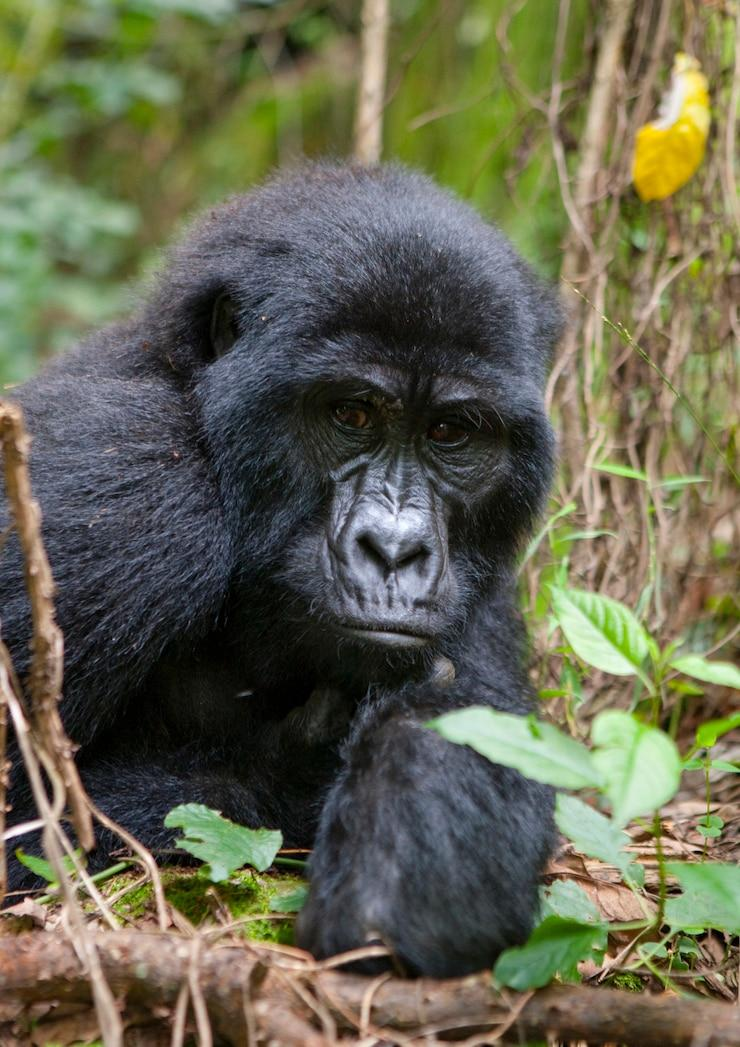goriile_montagne: (0, 135, 600, 999)
